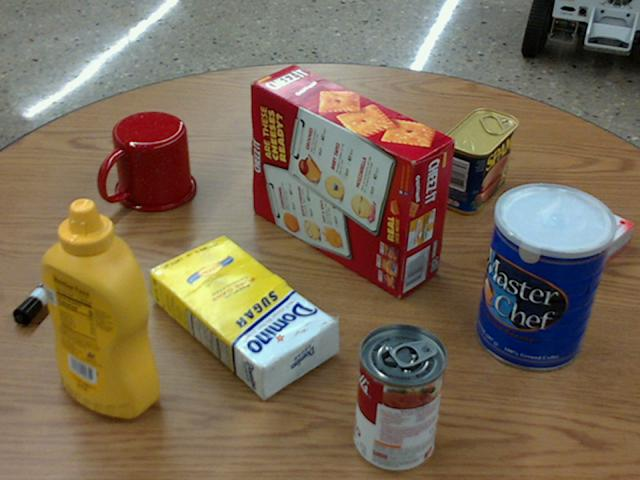cracker_box: (250, 66, 452, 297)
gelatin_box: (530, 196, 633, 275)
large_marker: (13, 239, 94, 322)
master_chef_can: (476, 183, 614, 370)
mug: (98, 112, 195, 211)
mustard_bottle: (39, 198, 157, 416)
potted_meat_can: (440, 108, 518, 213)
sugar_box: (148, 234, 337, 399)
tomato_soup_can: (353, 325, 445, 471)
tuna_fish_can: (257, 78, 330, 151)
